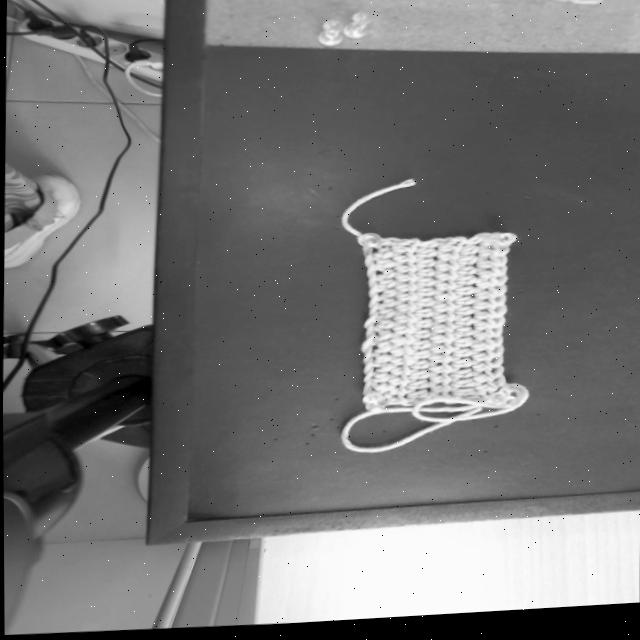ch: (359, 334, 373, 358), (362, 316, 377, 333), (361, 349, 371, 369), (362, 361, 372, 379), (361, 372, 372, 387), (367, 306, 377, 322), (366, 298, 376, 313), (365, 265, 373, 283), (364, 326, 372, 344), (361, 381, 369, 399), (363, 253, 370, 273), (367, 285, 375, 302), (367, 275, 374, 292)
hdc: (467, 341, 501, 357), (469, 361, 503, 377), (472, 381, 504, 398), (470, 300, 504, 316), (471, 289, 505, 305), (471, 372, 502, 388), (469, 352, 502, 367), (473, 280, 506, 295), (471, 322, 504, 336), (427, 336, 459, 350), (471, 311, 505, 324), (371, 331, 399, 346), (371, 250, 400, 264), (475, 271, 506, 284), (370, 261, 403, 273), (386, 377, 414, 391), (374, 310, 404, 323), (475, 261, 505, 274), (426, 367, 458, 379), (390, 326, 419, 339), (374, 300, 403, 313), (453, 280, 487, 291), (387, 338, 418, 350), (426, 378, 457, 390), (430, 316, 461, 328), (433, 265, 464, 277), (430, 305, 461, 317), (390, 257, 423, 268), (426, 357, 459, 368), (428, 327, 461, 338), (367, 345, 397, 357), (431, 294, 461, 306), (471, 333, 501, 345), (391, 267, 423, 278), (369, 357, 394, 371), (435, 248, 470, 258), (391, 316, 420, 328), (373, 282, 404, 293), (427, 348, 458, 359), (435, 255, 466, 266), (432, 275, 463, 286), (431, 285, 462, 296), (373, 271, 401, 283), (392, 286, 422, 297), (450, 342, 480, 353), (388, 349, 415, 361), (389, 249, 425, 258), (404, 394, 436, 404), (404, 384, 436, 394), (447, 374, 479, 384), (476, 252, 508, 262), (370, 323, 399, 334), (394, 305, 420, 317), (384, 400, 412, 411), (463, 239, 491, 250), (387, 389, 412, 401), (393, 277, 423, 287), (406, 374, 436, 384), (458, 251, 488, 261), (388, 359, 415, 370), (394, 295, 421, 306), (447, 384, 480, 393), (388, 370, 417, 380), (410, 345, 439, 355), (428, 388, 457, 398), (449, 363, 478, 373), (413, 302, 442, 312), (453, 301, 482, 311), (413, 263, 445, 272), (412, 254, 444, 263), (368, 387, 394, 398), (413, 273, 441, 283), (452, 332, 480, 342), (456, 261, 487, 270), (448, 393, 482, 401), (411, 323, 438, 333), (452, 322, 479, 332), (412, 313, 441, 322), (414, 283, 443, 292), (453, 292, 482, 301), (455, 272, 484, 281), (410, 354, 436, 364), (374, 293, 402, 302), (413, 293, 441, 302), (407, 365, 434, 374), (451, 353, 478, 362), (452, 312, 479, 321), (369, 377, 395, 386), (410, 334, 436, 343), (418, 245, 447, 253), (370, 368, 395, 377)
